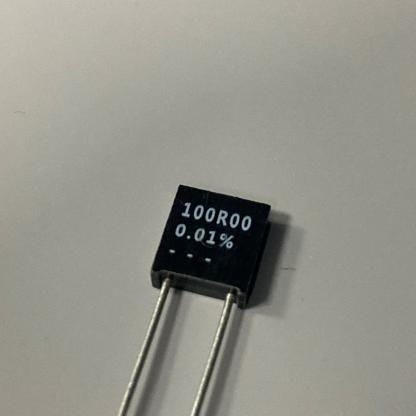SP0000007: (66, 128, 330, 415)
